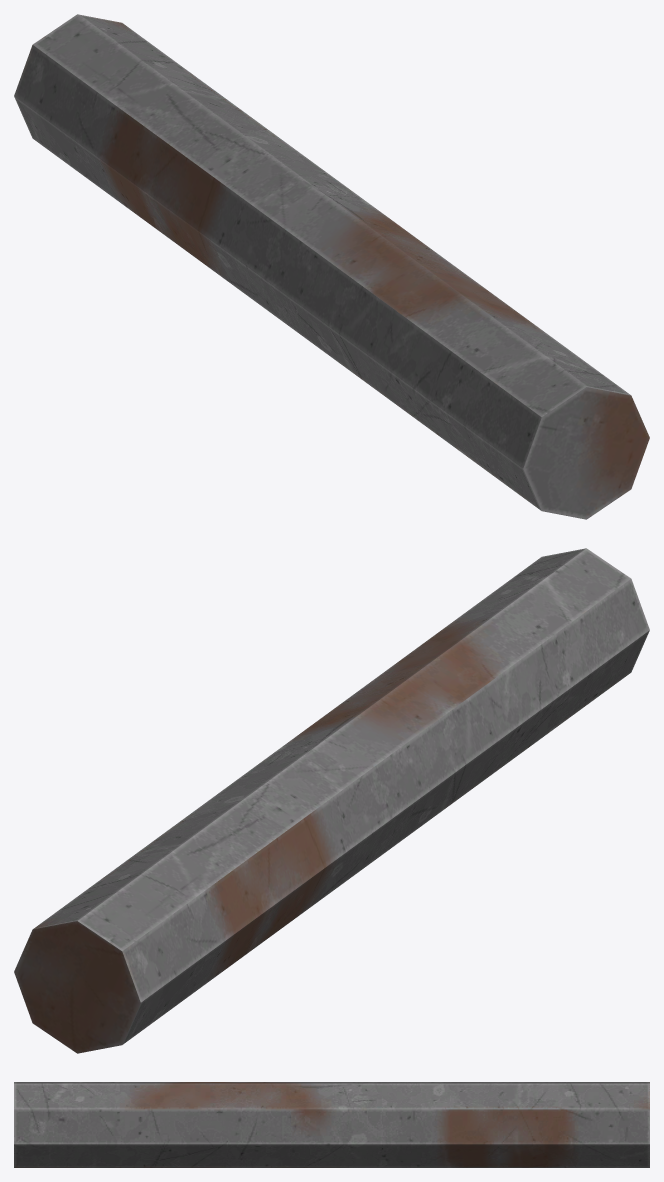
The model's file is IronRod.glb.
3 views of the same model, one above another, from view 1: azimuth 30°, elevation 25°; view 2: azimuth 150°, elevation 25°; view 3: azimuth 270°, elevation 25° (orthographic). The views are drawn at different scales.
Visible parts, largest first — view 1: IronRod; view 2: IronRod; view 3: IronRod.
Boxes of the visible parts, x1,y1,x2,y2 form: IronRod: [14, 14, 649, 519]; IronRod: [14, 548, 649, 1053]; IronRod: [14, 1082, 649, 1167].
Size of the model in its own units: 0.1162 by 0.1162 by 0.8081.
Materials: 1 (1 with a texture image).
